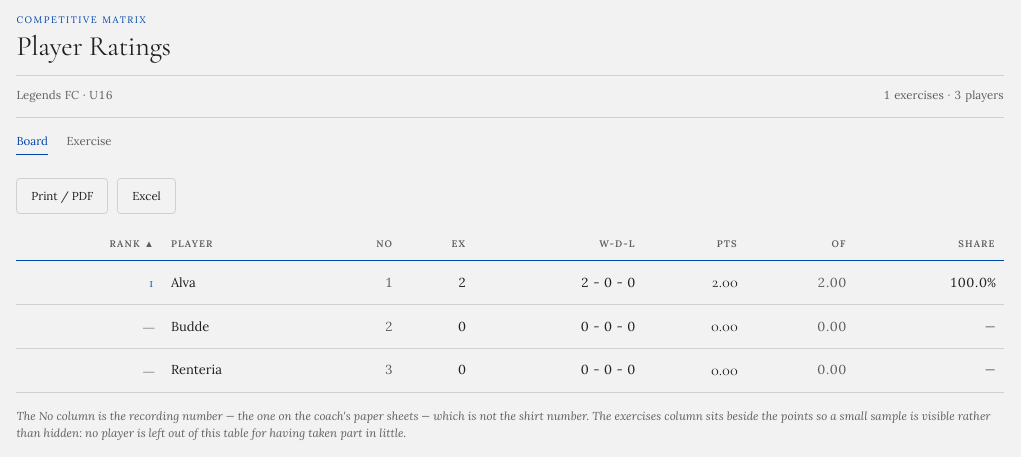
Test: a competitive exercise › shows the leaderboard instead of the board
The width and height of the screenshot is (1021, 457).
Step 1. Click the button "Exercise" → (89, 144), box [66,132,112,155]
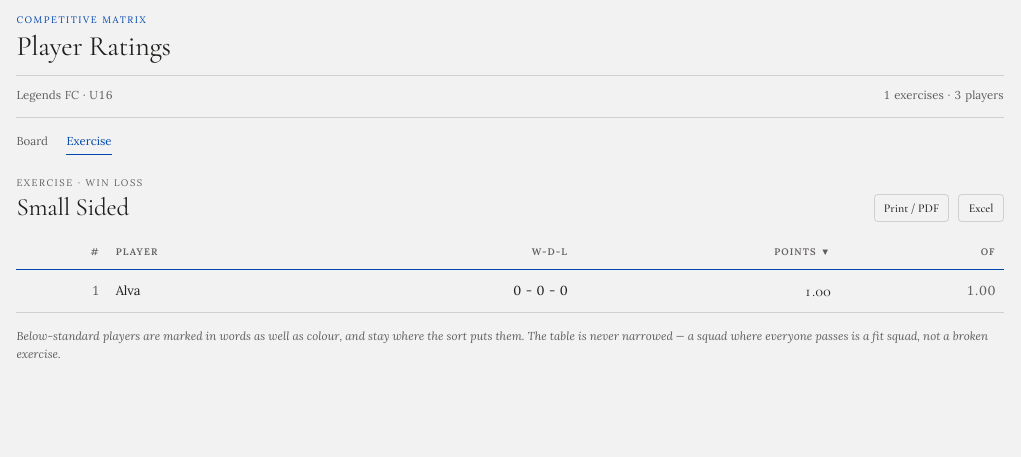
Now the table is shown, box [16,236,1004,313]
